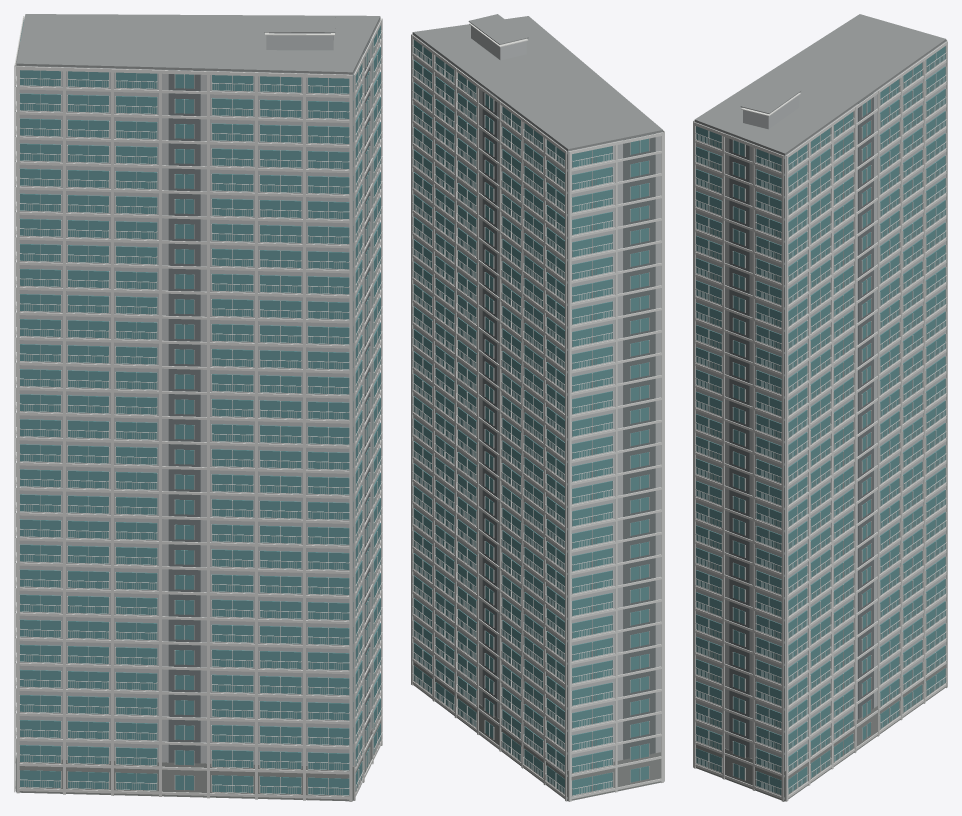
Rendered from bespoke-jamsil-ricenz-211.glb.
The picture shows the model from 3 angles, left to right: view 1: azimuth 30°, elevation 25°; view 2: azimuth 150°, elevation 25°; view 3: azimuth 270°, elevation 25°; orthographic projection. The views are drawn at different scales.
Visible parts, largest first — view 1: Ricenz211_editable_Ricenz211_turquoise_balcony_glazing, Ricenz211_editable_Ricenz211_light_grey_solid_wall, Ricenz211_white_exact_chunk_3, Ricenz211_white_exact_chunk_1, Ricenz211_white_exact_chunk_2, Ricenz211_editable_Ricenz211_modest_grey_flat_roof_caps, Ricenz211_editable_Ricenz211_narrow_charcoal_service_strips, Ricenz211_white_exact_chunk_0, Ricenz211_editable_Ricenz211_muted_ground_wall; view 2: Ricenz211_editable_Ricenz211_turquoise_balcony_glazing, Ricenz211_editable_Ricenz211_light_grey_solid_wall, Ricenz211_white_exact_chunk_0, Ricenz211_white_exact_chunk_6, Ricenz211_white_exact_chunk_5, Ricenz211_editable_Ricenz211_narrow_charcoal_service_strips, Ricenz211_white_exact_chunk_4, Ricenz211_editable_Ricenz211_modest_grey_flat_roof_caps, Ricenz211_editable_Ricenz211_muted_ground_wall, Ricenz211_white_exact_chunk_3; view 3: Ricenz211_editable_Ricenz211_turquoise_balcony_glazing, Ricenz211_editable_Ricenz211_light_grey_solid_wall, Ricenz211_white_exact_chunk_3, Ricenz211_white_exact_chunk_6, Ricenz211_white_exact_chunk_5, Ricenz211_white_exact_chunk_4, Ricenz211_editable_Ricenz211_modest_grey_flat_roof_caps, Ricenz211_editable_Ricenz211_narrow_charcoal_service_strips, Ricenz211_editable_Ricenz211_muted_ground_wall.
Boxes of the visible parts, x1,y1,x2,y2 form: Ricenz211_editable_Ricenz211_turquoise_balcony_glazing: (19, 20, 380, 795); Ricenz211_editable_Ricenz211_light_grey_solid_wall: (17, 19, 380, 766); Ricenz211_white_exact_chunk_3: (16, 18, 382, 801); Ricenz211_white_exact_chunk_1: (66, 71, 254, 796); Ricenz211_white_exact_chunk_2: (210, 75, 349, 799); Ricenz211_editable_Ricenz211_modest_grey_flat_roof_caps: (16, 14, 380, 74); Ricenz211_editable_Ricenz211_narrow_charcoal_service_strips: (16, 40, 370, 763); Ricenz211_white_exact_chunk_0: (14, 16, 110, 793); Ricenz211_editable_Ricenz211_muted_ground_wall: (16, 715, 380, 801); Ricenz211_editable_Ricenz211_turquoise_balcony_glazing: (413, 39, 648, 795); Ricenz211_editable_Ricenz211_light_grey_solid_wall: (412, 26, 662, 770); Ricenz211_white_exact_chunk_0: (568, 132, 663, 801); Ricenz211_white_exact_chunk_6: (411, 23, 567, 801); Ricenz211_white_exact_chunk_5: (456, 72, 543, 781); Ricenz211_editable_Ricenz211_narrow_charcoal_service_strips: (482, 87, 655, 759); Ricenz211_white_exact_chunk_4: (412, 39, 476, 731); Ricenz211_editable_Ricenz211_modest_grey_flat_roof_caps: (412, 14, 662, 150); Ricenz211_editable_Ricenz211_muted_ground_wall: (413, 658, 660, 801); Ricenz211_white_exact_chunk_3: (412, 33, 664, 781); Ricenz211_editable_Ricenz211_turquoise_balcony_glazing: (696, 46, 945, 794); Ricenz211_editable_Ricenz211_light_grey_solid_wall: (694, 41, 946, 770); Ricenz211_white_exact_chunk_3: (693, 120, 808, 801); Ricenz211_white_exact_chunk_6: (741, 41, 947, 801); Ricenz211_white_exact_chunk_5: (833, 78, 923, 749); Ricenz211_white_exact_chunk_4: (788, 127, 854, 782); Ricenz211_editable_Ricenz211_modest_grey_flat_roof_caps: (694, 14, 946, 155); Ricenz211_editable_Ricenz211_narrow_charcoal_service_strips: (729, 92, 873, 757); Ricenz211_editable_Ricenz211_muted_ground_wall: (696, 660, 945, 801).
Bounding box in the file's own units: 40.15 × 88.33 × 30.7.
